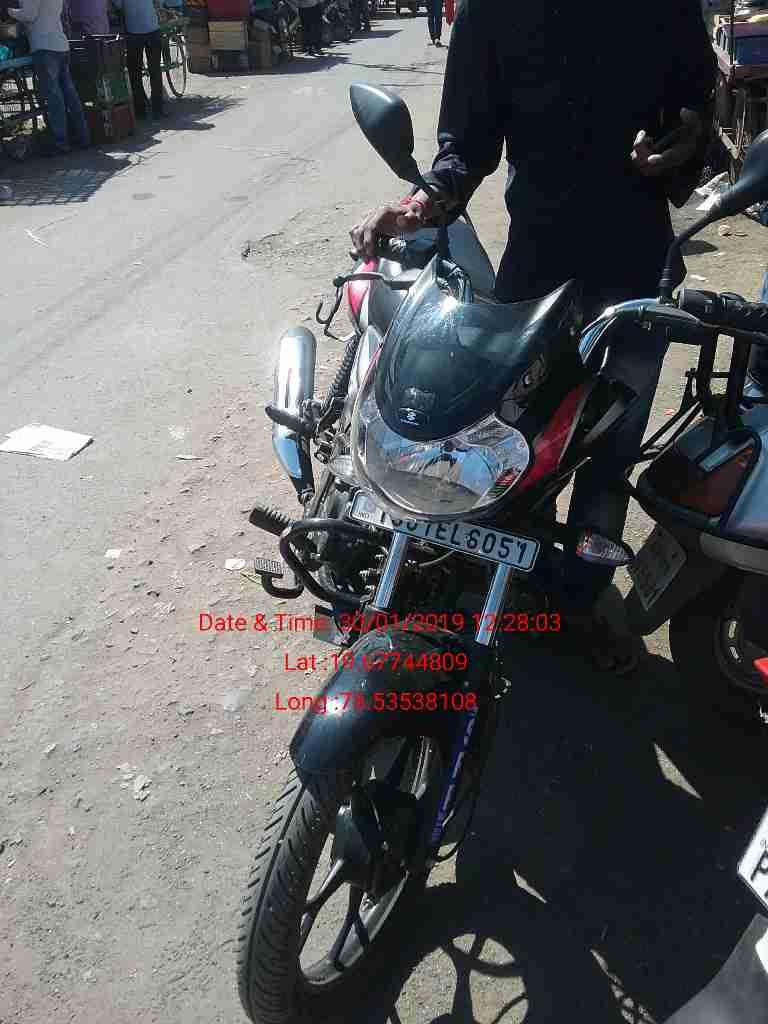plate: (349, 489, 544, 578)
